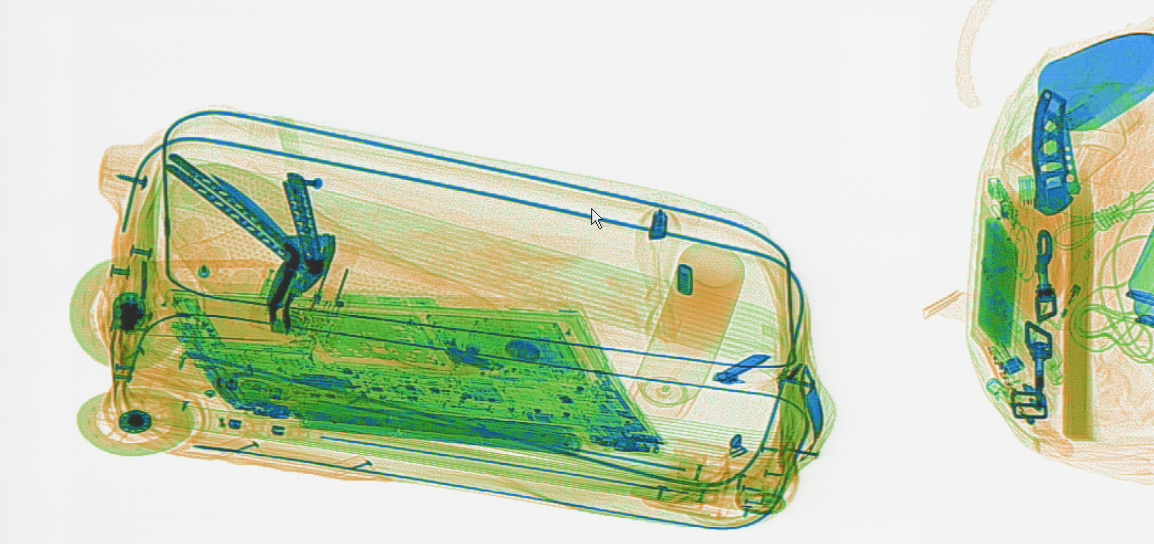knife: (161, 153, 324, 277), (1028, 87, 1081, 216)
lighter: (1036, 206, 1117, 338), (983, 375, 1073, 457)
